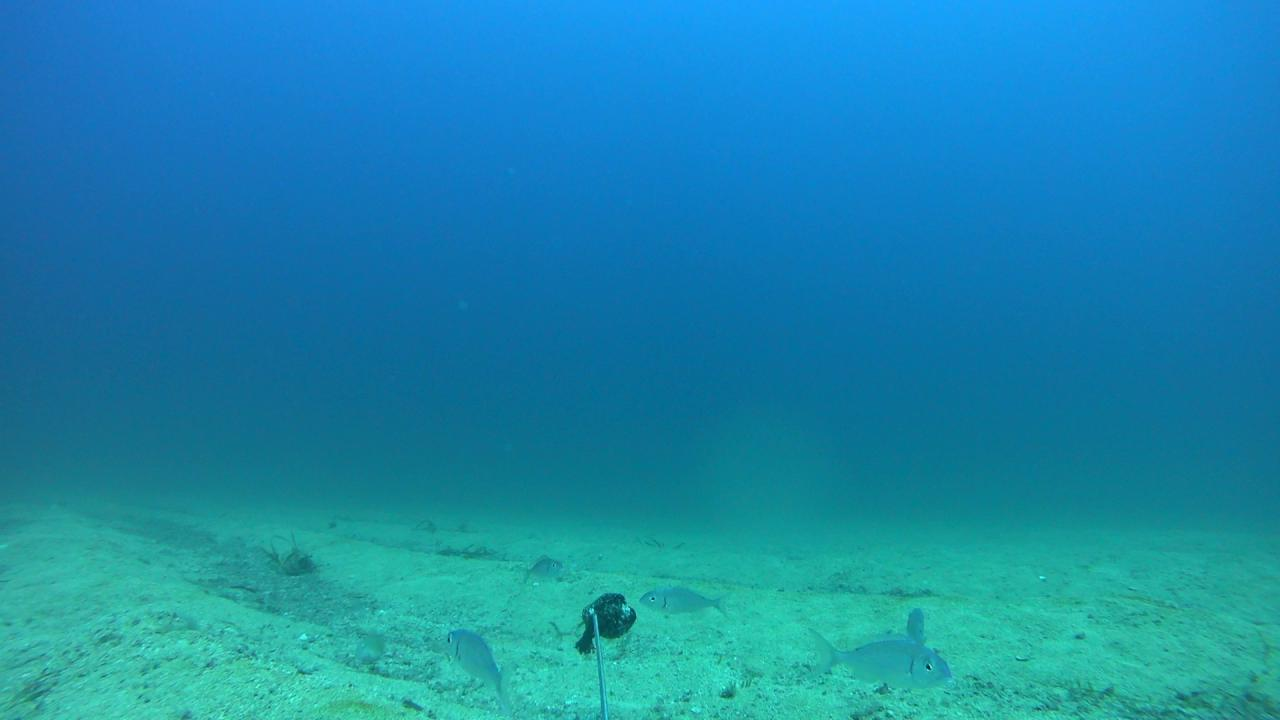pagellus: (807, 630, 954, 691), (444, 627, 514, 713), (638, 583, 724, 619), (517, 553, 564, 584)
